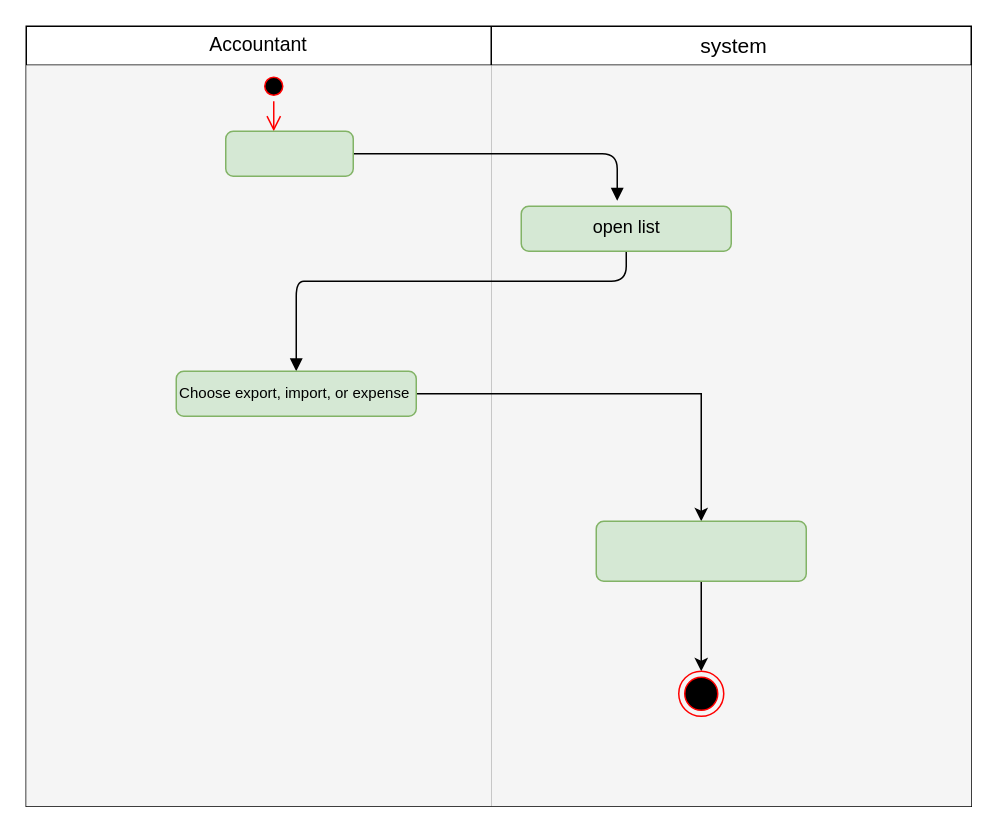
The diagram is 998 pixels wide and 833 high, and some of its shapes have lost their labels. The shapes that lost their labels are listed below. From the top down, each one's centre as x and y in pixels, then its label:
At [288,153]: "log_in".
At [700,550]: "Show costs".
